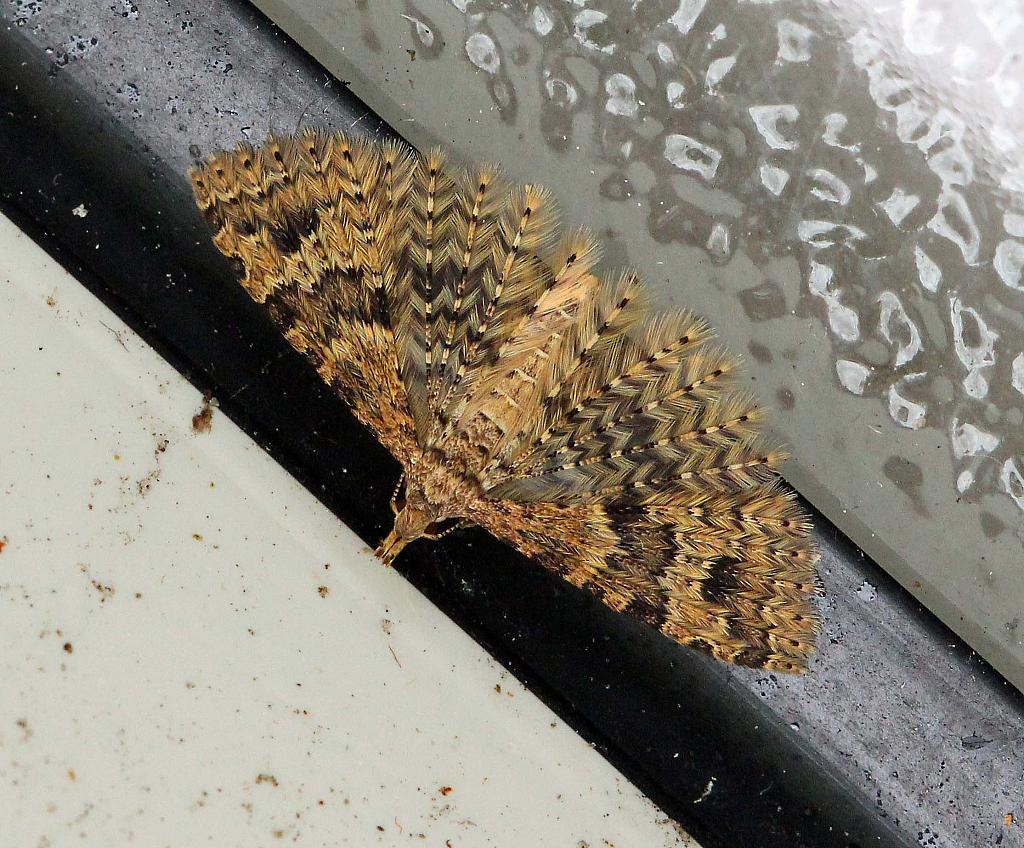Alucitidae: (172, 110, 823, 683)
moth: (174, 112, 825, 685)
